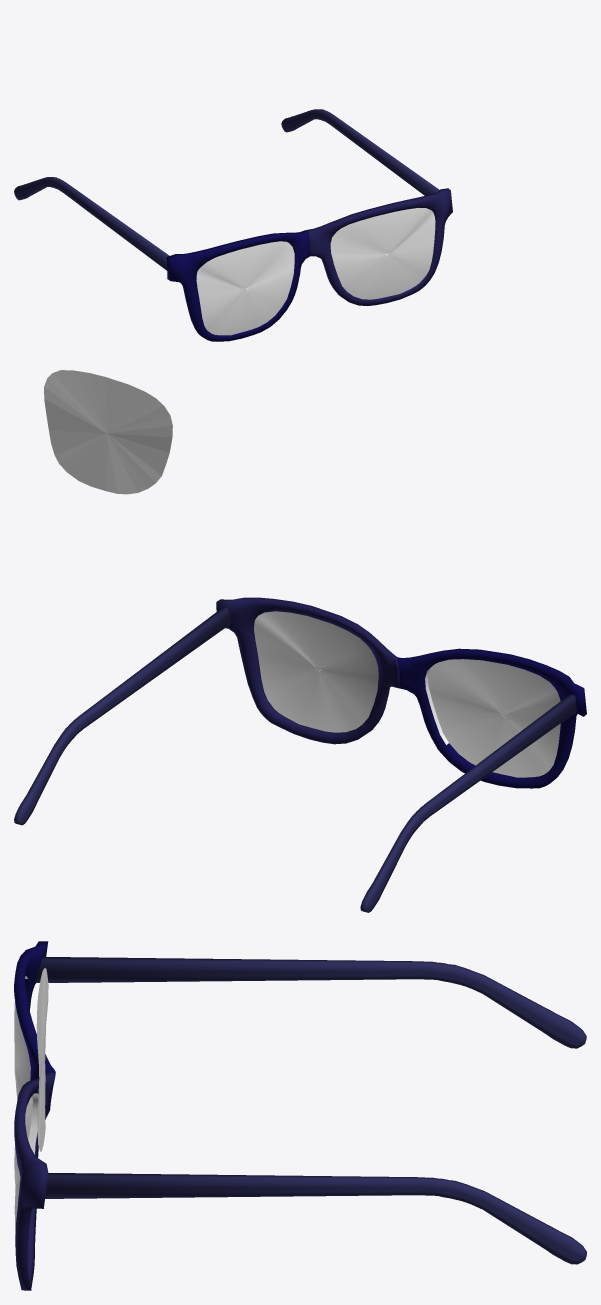
The model's file is asset (2).glb.
The picture shows the model from 3 angles, top to bottom: view 1: azimuth 30°, elevation 25°; view 2: azimuth 150°, elevation 25°; view 3: azimuth 270°, elevation 25°; orthographic projection. The views are drawn at different scales.
Parts seen in each view (by area): view 1: lens, lens001, marco001, marco, Plane002, Plane001; view 2: Circle001, lens, lens001, marco, marco001, Plane002, Plane001; view 3: Plane002, Plane001, marco, marco001, Circle001, lens001, lens.
Boxes of the visible parts, x1,y1,x2,y2 form: lens: (330, 208, 435, 299); lens001: (196, 241, 294, 335); marco001: (166, 230, 310, 341); marco: (306, 188, 452, 305); Plane002: (14, 177, 169, 270); Plane001: (281, 109, 439, 195); Circle001: (44, 370, 172, 494); lens: (254, 611, 378, 732); lens001: (425, 659, 560, 777); marco: (216, 597, 399, 744); marco001: (394, 648, 586, 788); Plane002: (360, 694, 576, 912); Plane001: (14, 607, 230, 825); Plane002: (36, 957, 586, 1048); Plane001: (45, 1173, 586, 1264); marco: (14, 1071, 55, 1290); marco001: (14, 941, 55, 1110); Circle001: (36, 968, 48, 1151); lens001: (14, 976, 30, 1099); lens: (14, 1093, 38, 1234).
Bounding box in the file's own units: 3.97 × 2.21 × 2.8.
